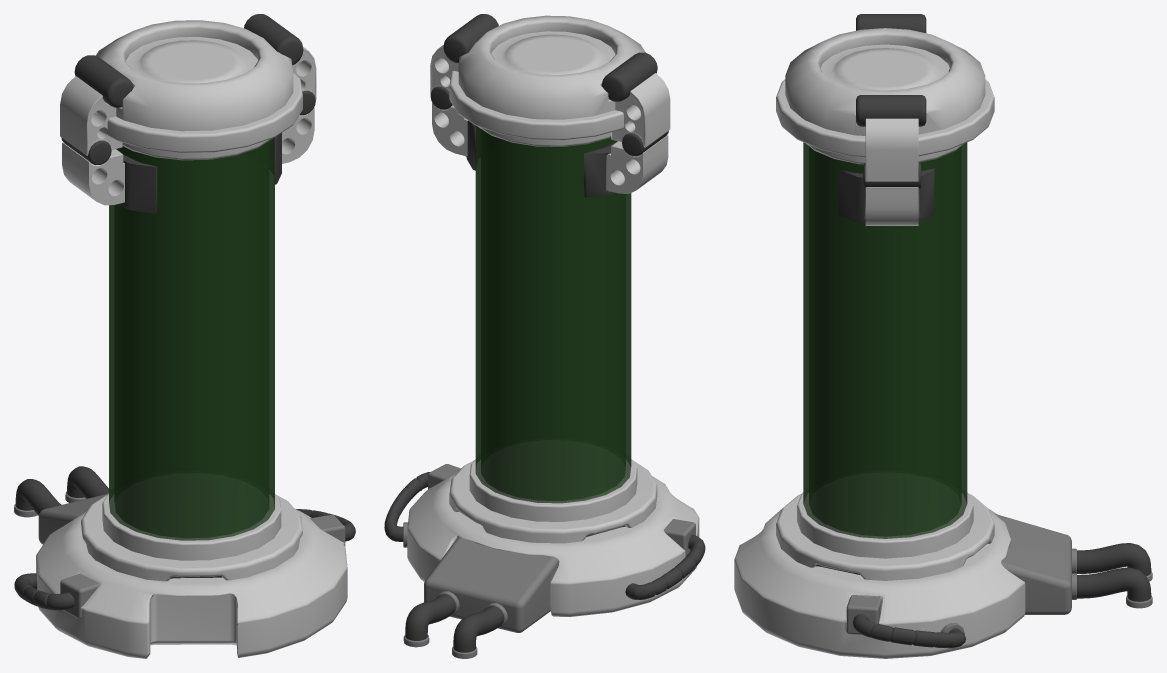
The model's file is Sperm_Capsule.fbx.
3 views of the same model, side by side, from view 1: azimuth 30°, elevation 25°; view 2: azimuth 150°, elevation 25°; view 3: azimuth 270°, elevation 25° (orthographic). The views are drawn at different scales.
Visible parts, largest first — view 1: Sperm_Capsule; view 2: Sperm_Capsule; view 3: Sperm_Capsule.
Part boxes in pixels (x1,y1,x2,y2): Sperm_Capsule: (14,14,355,658); Sperm_Capsule: (384,14,705,658); Sperm_Capsule: (734,14,1152,658).
Bounding box in the file's own units: 6.83 × 11.51 × 8.07.
